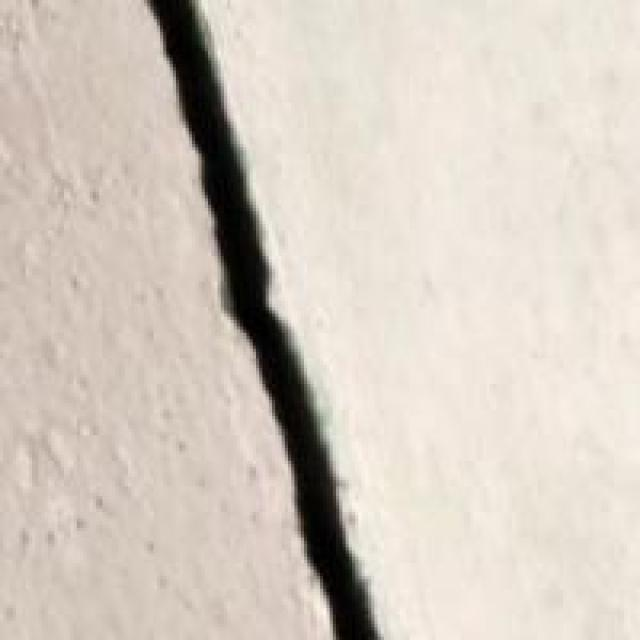Crack: (115, 0, 400, 637)
